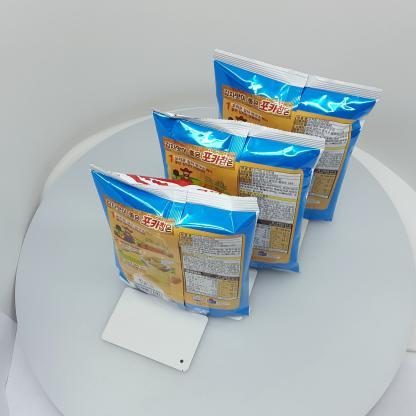Plastic Packaging: (76, 167, 262, 341), (213, 47, 379, 150)
